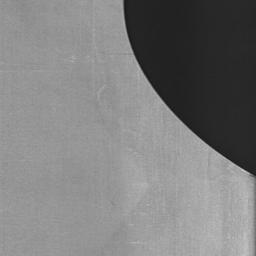Crescent gap: (123, 0, 256, 176)
